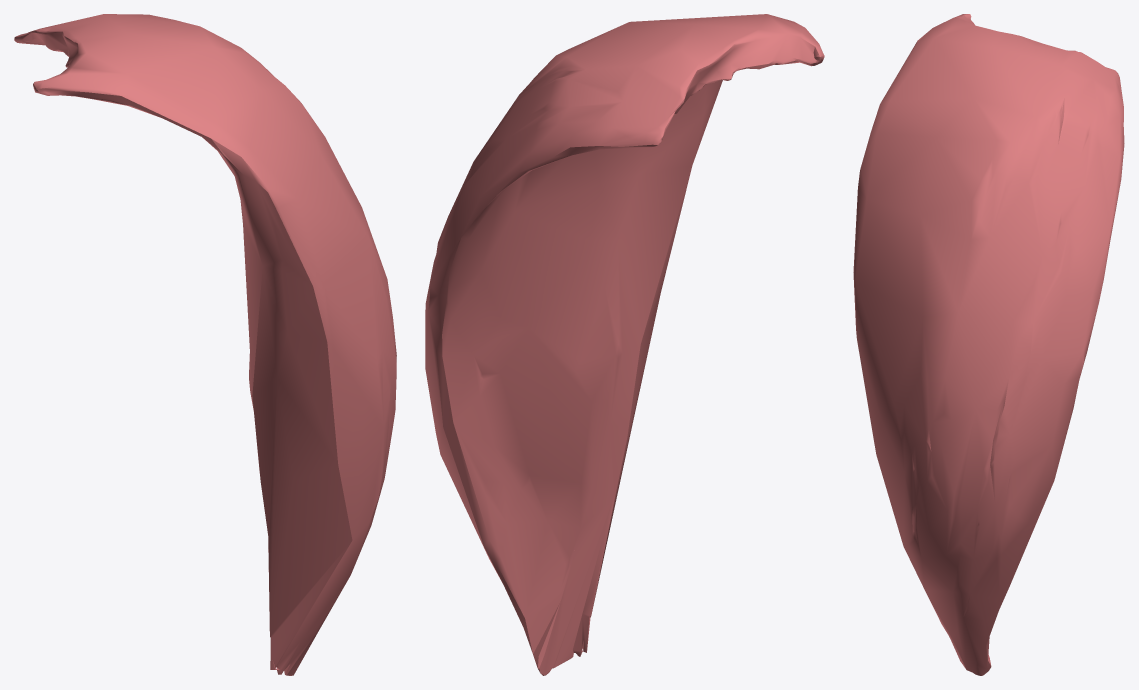
The picture shows the model from 3 angles, left to right: view 1: azimuth 30°, elevation 25°; view 2: azimuth 150°, elevation 25°; view 3: azimuth 270°, elevation 25°; orthographic projection. The views are drawn at different scales.
Parts seen in each view (by area): view 1: FJ1467M; view 2: FJ1467M; view 3: FJ1467M.
Part boxes in pixels (x1,y1,x2,y2): FJ1467M: (14, 14, 396, 675); FJ1467M: (425, 14, 824, 675); FJ1467M: (853, 14, 1124, 675).
Size of the model in its own units: 0.0802 by 0.1434 by 0.0622.
